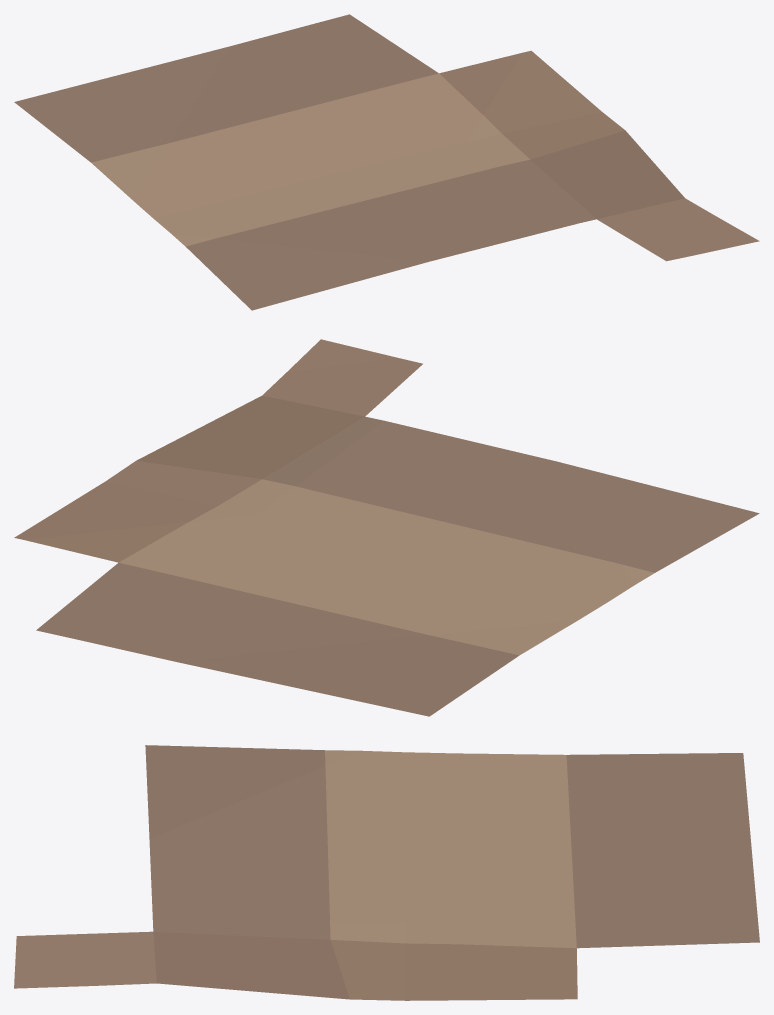
File: farm_34_23_soil.glb
The picture shows the model from 3 angles, top to bottom: view 1: azimuth 30°, elevation 25°; view 2: azimuth 150°, elevation 25°; view 3: azimuth 270°, elevation 25°; orthographic projection. The views are drawn at different scales.
Visible parts, largest first — view 1: geometry_0; view 2: geometry_0; view 3: geometry_0.
Part boxes in pixels (x1,y1,x2,y2): geometry_0: (14, 14, 759, 310); geometry_0: (14, 339, 759, 716); geometry_0: (14, 745, 759, 1000).
Size of the model in its own units: 108 by 1.52 by 131.
